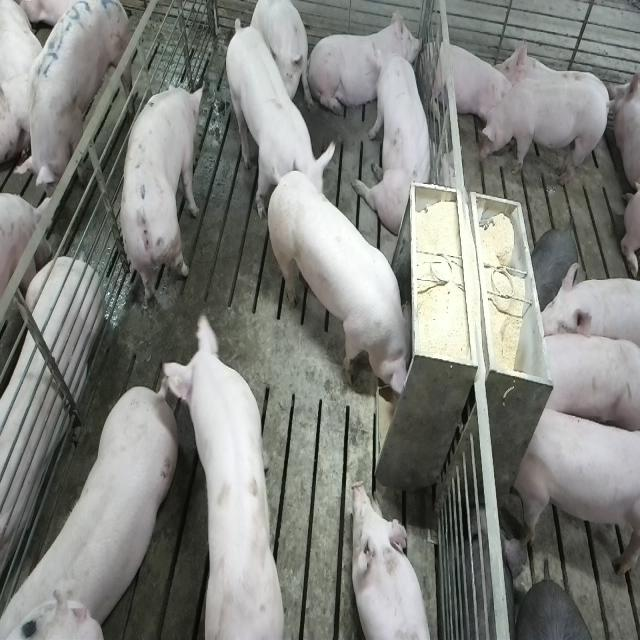Feeding: (271, 168, 421, 404)
Sitting: (361, 52, 435, 236)
Standing: (5, 377, 182, 635), (167, 310, 290, 638), (17, 0, 131, 205), (512, 399, 638, 580), (227, 22, 339, 222), (118, 82, 205, 314), (479, 81, 612, 190), (533, 327, 637, 434), (536, 264, 640, 365)
Sternal_lying: (0, 244, 100, 591), (350, 481, 433, 640), (310, 15, 426, 118), (428, 35, 509, 132)
